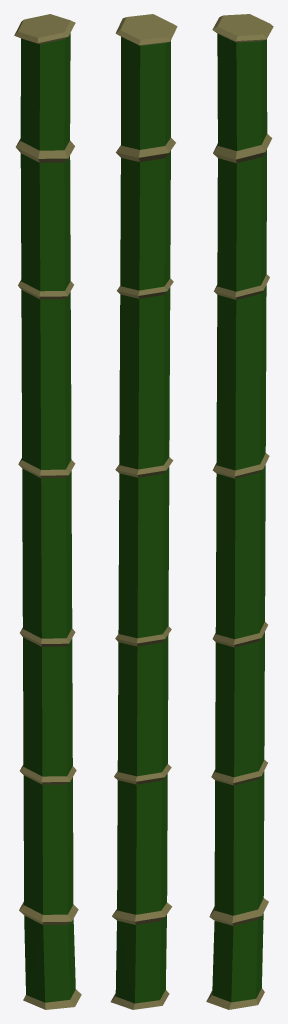
File: Bambo_3 Asia.fbx
3 renders of one model, left to right at view 1: azimuth 90°, elevation 25°; view 2: azimuth 210°, elevation 25°; view 3: azimuth 270°, elevation 25°, orthographic.
Visible parts, largest first — view 1: Bambo_3; view 2: Bambo_3; view 3: Bambo_3.
Boxes of the visible parts, x1,y1,x2,y2 form: Bambo_3: (14, 14, 81, 1009); Bambo_3: (110, 14, 177, 1009); Bambo_3: (206, 14, 273, 1009).
Size of the model in its own units: 0.1268 by 2.08 by 0.1306.
